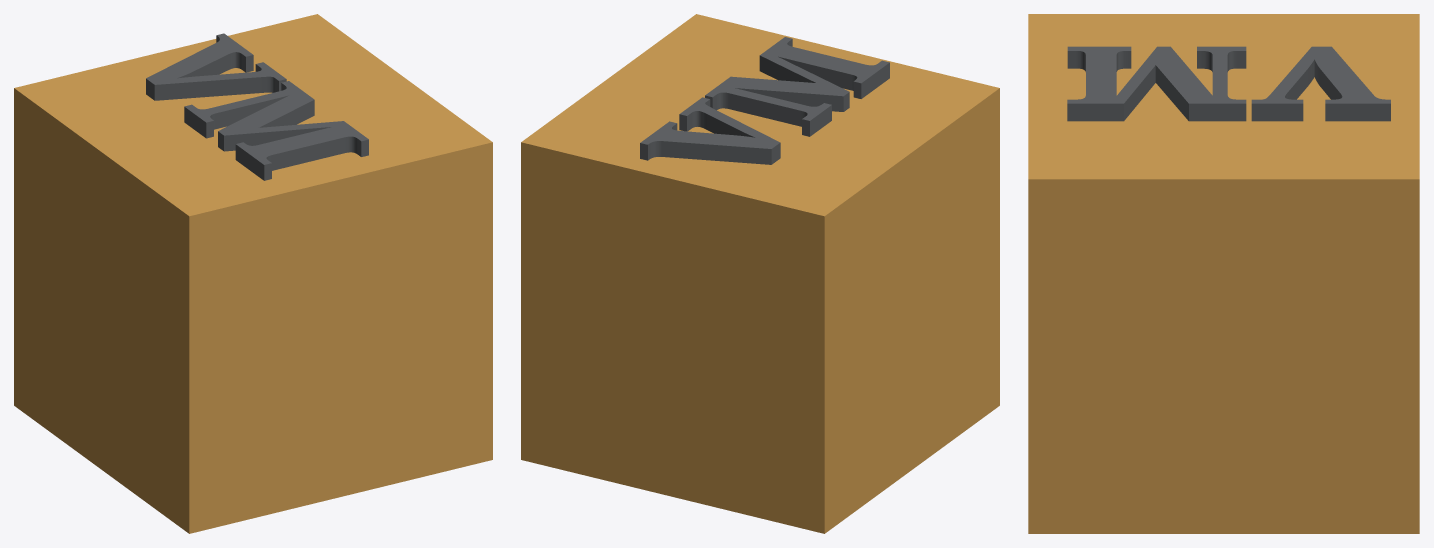
Rendered from VMmodel.glb.
3 views of the same model, side by side, from view 1: azimuth 30°, elevation 25°; view 2: azimuth 150°, elevation 25°; view 3: azimuth 270°, elevation 25° (orthographic). The views are drawn at different scales.
Visible parts, largest first — view 1: Mesh_Mesh_head_geo.001_lambert2SG.001; view 2: Mesh_Mesh_head_geo.001_lambert2SG.001; view 3: Mesh_Mesh_head_geo.001_lambert2SG.001.
Part boxes in pixels (<box>): Mesh_Mesh_head_geo.001_lambert2SG.001: <box>14,14,492,533</box>; Mesh_Mesh_head_geo.001_lambert2SG.001: <box>521,14,999,533</box>; Mesh_Mesh_head_geo.001_lambert2SG.001: <box>1028,14,1419,533</box>.
Bounding box in the file's own units: 20 × 21 × 20.
